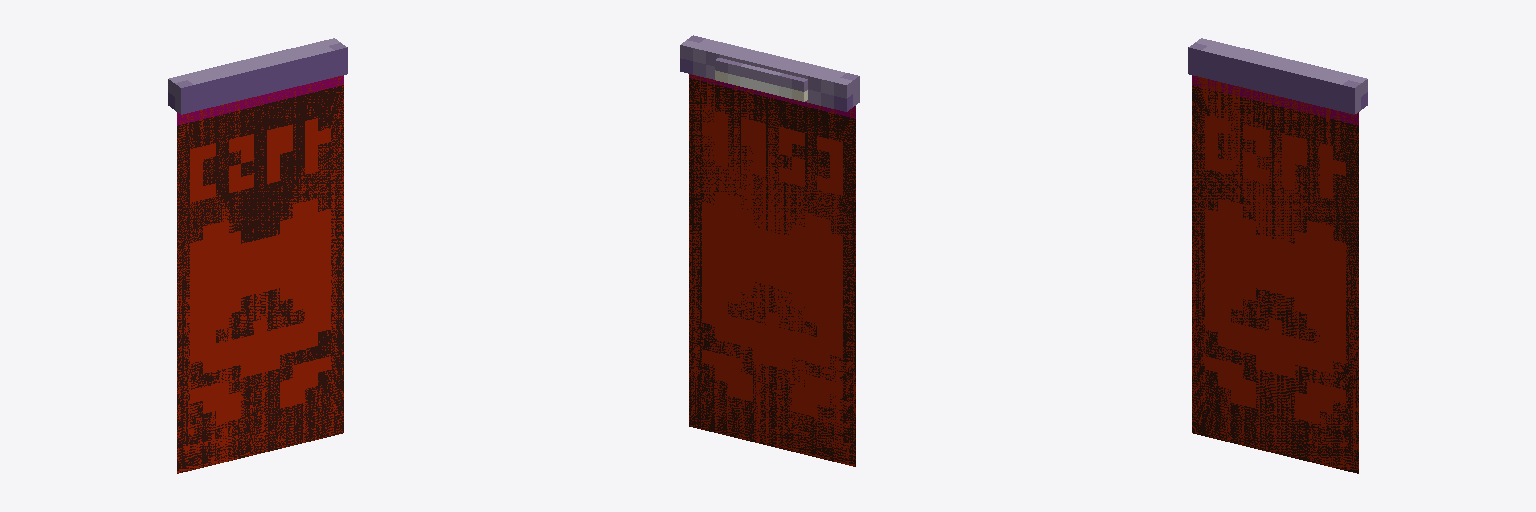
3 views of the same model, side by side, from view 1: azimuth 30°, elevation 25°; view 2: azimuth 150°, elevation 25°; view 3: azimuth 330°, elevation 25° (orthographic).
Parts seen in each view (by area): view 1: cube; view 2: cube; view 3: cube.
Part boxes in pixels (left/top/right/bottom): cube: left=168, top=38, right=347, bottom=473; cube: left=680, top=35, right=859, bottom=466; cube: left=1188, top=38, right=1367, bottom=473.
Size of the model in its own units: 0.8125 by 1.81 by 0.1406.
1 materials, 1 textured.